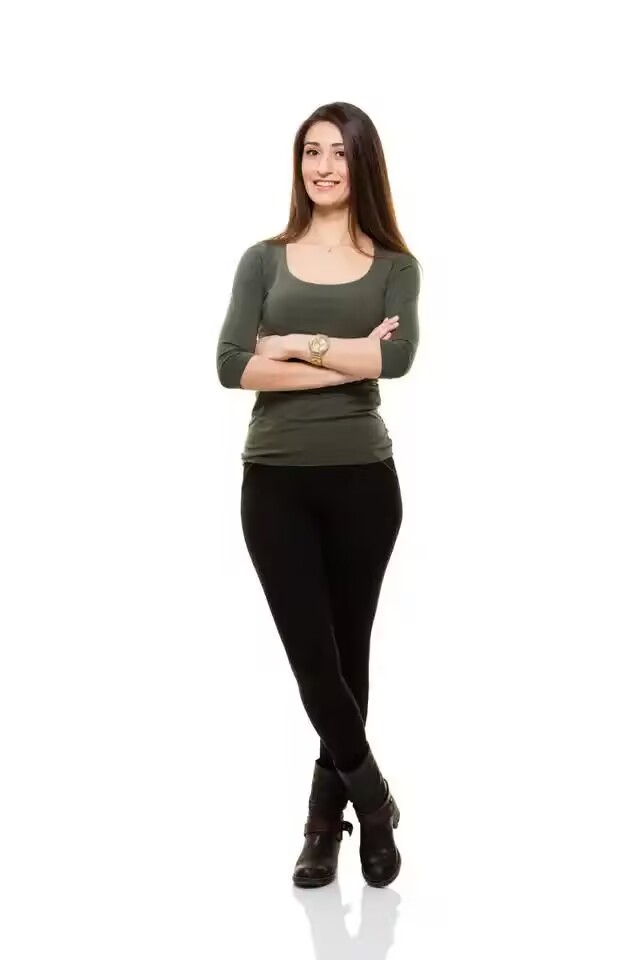up: (193, 81, 483, 922)
